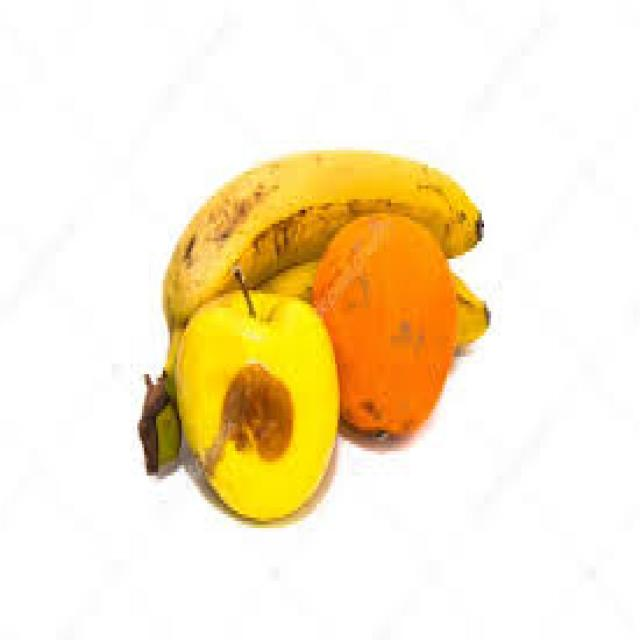organic waste: (138, 255, 486, 476), (158, 147, 482, 378), (170, 269, 337, 521), (310, 202, 456, 440)
